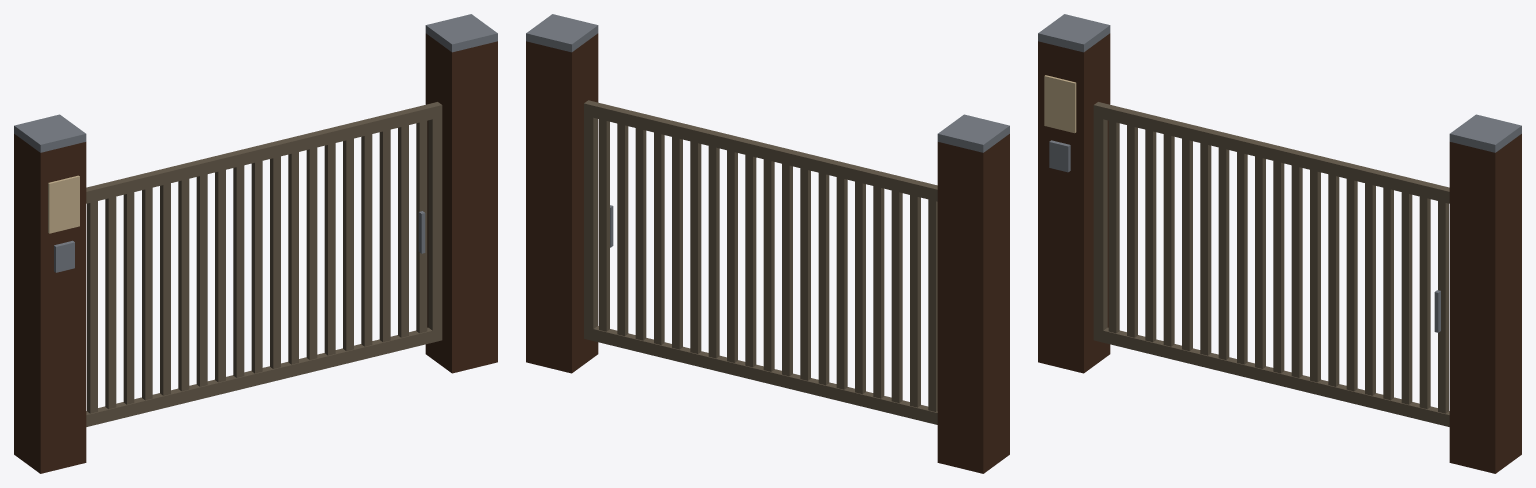
File: gate_close.fbx
3 renders of one model, left to right at view 1: azimuth 30°, elevation 25°; view 2: azimuth 150°, elevation 25°; view 3: azimuth 330°, elevation 25°, orthographic.
Parts seen in each view (by area): view 1: a2000/0/gate_close; view 2: a2000/0/gate_close; view 3: a2000/0/gate_close.
Part boxes in pixels (left/top/right/bottom): a2000/0/gate_close: left=14, top=14, right=497, bottom=473; a2000/0/gate_close: left=526, top=14, right=1009, bottom=473; a2000/0/gate_close: left=1038, top=14, right=1521, bottom=473.
Size of the model in its own units: 2.4 by 1.65 by 0.26.
